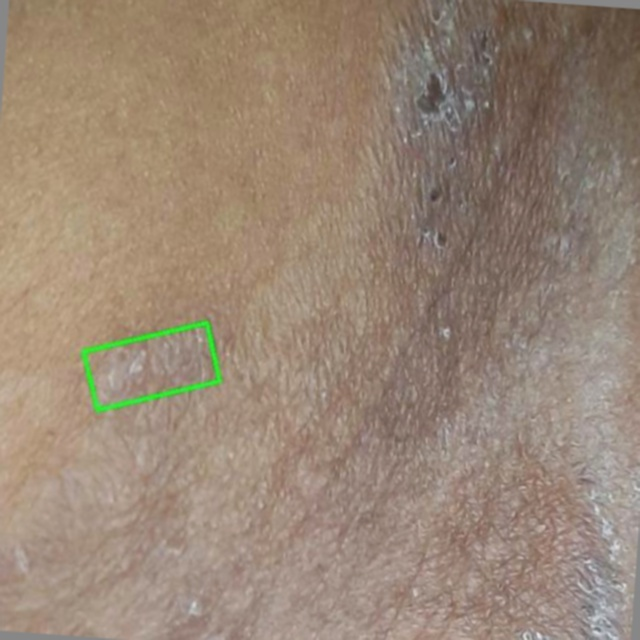Contact Dermatitis: (83, 323, 220, 410)
